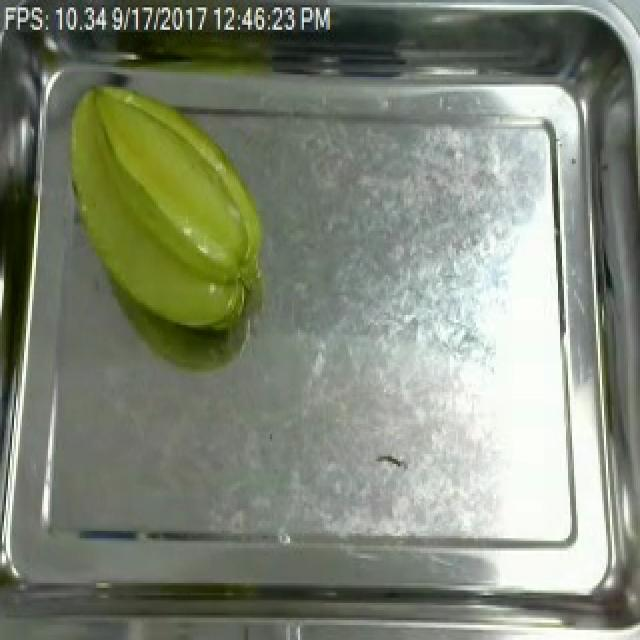fruit: (54, 74, 274, 345)
